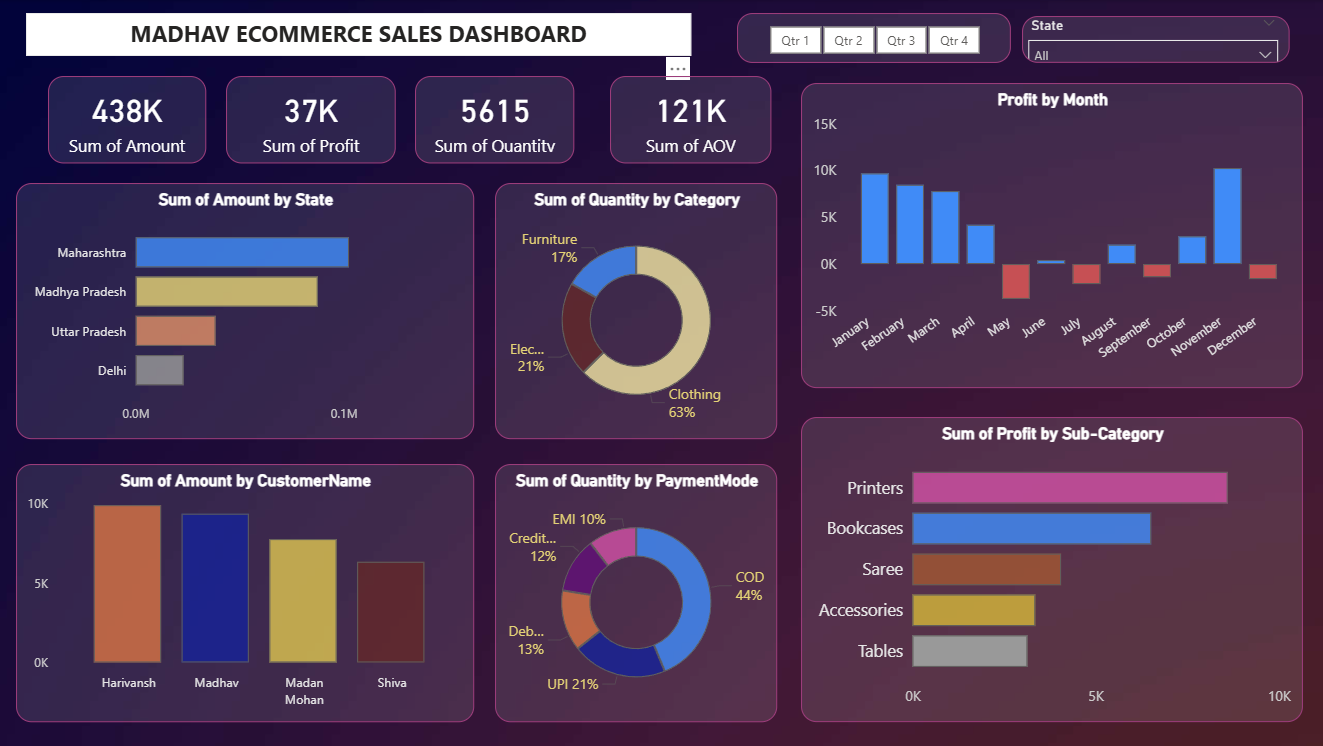

What the dashboard file says about the page in this screenshot:
{"tool":"powerbi","page":{"name":"Page 1","canvas":[1280,720],"ordinal":0},"visuals":[{"type":"textbox","box":[26.7,12.3,639,41.1],"z":0},{"type":"columnChart","title":"Profit by Month","fields":{"Category":["Orders.Order Date.Variation.Date Hierarchy.Month"],"Y":["Details.Profit"]},"box":[771.5,80.1,481.8,292.8],"z":1000},{"type":"barChart","fields":{"Category":["Details.Sub-Category"],"Y":["Details.Profit"]},"box":[771.5,400.6,481.8,292.8],"z":2000},{"type":"donutChart","fields":{"Category":["Details.Category"],"Y":["Details.Quantity"]},"box":[477.7,175.7,271.2,245.5],"z":3000},{"type":"donutChart","fields":{"Category":["Details.PaymentMode"],"Y":["Details.Quantity"]},"box":[477.7,445.8,271.2,247.6],"z":4000},{"type":"card","fields":{"Values":["Details.Amount"]},"box":[48.3,72.9,152,84.2],"z":5000},{"type":"card","fields":{"Values":["Details.Quantity"]},"box":[400.6,72.9,153.1,84.2],"z":6000},{"type":"card","fields":{"Values":["Details.Profit"]},"box":[218.8,72.9,163.3,84.2],"z":7000},{"type":"card","fields":{"Values":["Details.AOV"]},"box":[587.6,72.9,155.1,84.2],"z":8000},{"type":"barChart","fields":{"Category":["Orders.State"],"Y":["Details.Amount"]},"box":[17.5,175.7,439.7,245.5],"z":9000},{"type":"columnChart","fields":{"Category":["Orders.CustomerName"],"Y":["Details.Amount"]},"box":[17.5,445.8,439.7,247.6],"z":10000},{"type":"slicer","fields":{"Values":["Orders.State"]},"box":[983.1,15.4,256.8,45.2],"z":11000},{"type":"slicer","fields":{"Values":["Orders.Order Date.Variation.Date Hierarchy.Quarter"]},"box":[709.9,12.3,263,48.3],"z":12000}]}

Visuals, with their boxes in screenshot pixels (x1, y1, x2, y2), scaled from the page's 1280x720 canvas onto the 1323x746 screenshot:
textbox: (left=28, top=13, right=688, bottom=55)
"Profit by Month" columnChart: (left=797, top=83, right=1295, bottom=386)
barChart - Details.Sub-Category x Details.Profit: (left=797, top=415, right=1295, bottom=718)
donutChart - Details.Category x Details.Quantity: (left=494, top=182, right=774, bottom=436)
donutChart - Details.PaymentMode x Details.Quantity: (left=494, top=462, right=774, bottom=718)
card - Details.Amount: (left=50, top=76, right=207, bottom=163)
card - Details.Quantity: (left=414, top=76, right=572, bottom=163)
card - Details.Profit: (left=226, top=76, right=395, bottom=163)
card - Details.AOV: (left=607, top=76, right=768, bottom=163)
barChart - Orders.State x Details.Amount: (left=18, top=182, right=473, bottom=436)
columnChart - Orders.CustomerName x Details.Amount: (left=18, top=462, right=473, bottom=718)
slicer - Orders.State: (left=1016, top=16, right=1282, bottom=63)
slicer - Orders.Order Date.Variation.Date Hierarchy.Quarter: (left=734, top=13, right=1006, bottom=63)
